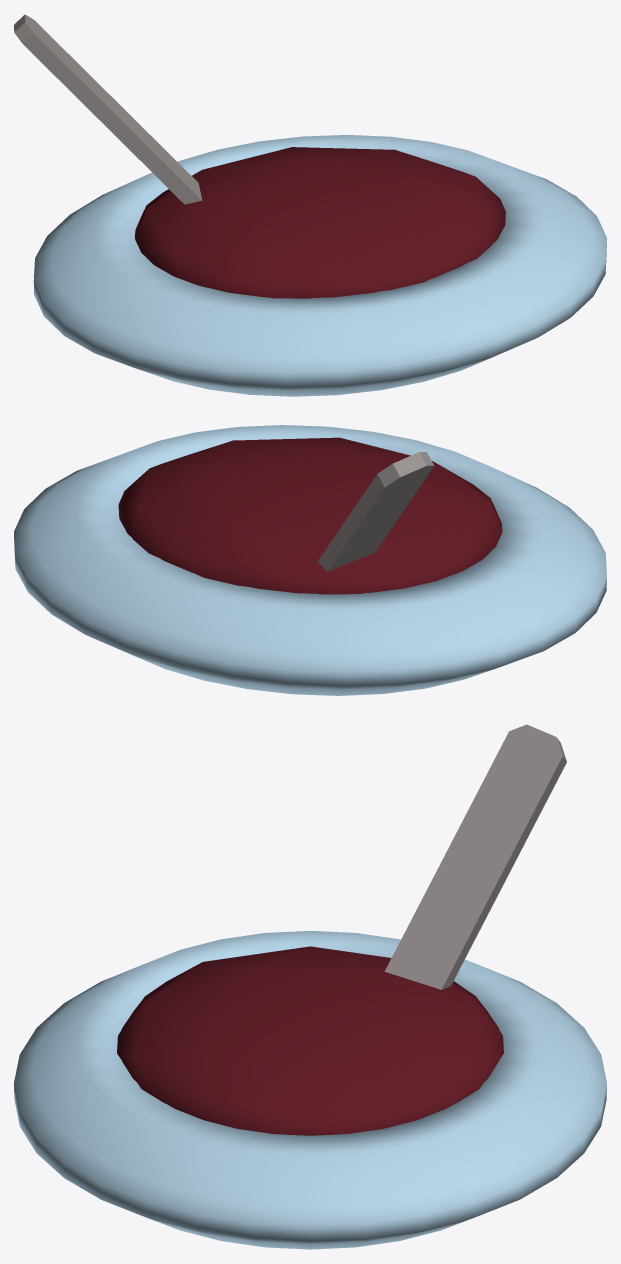
File: cranberry.fbx
3 renders of one model, top to bottom at view 1: azimuth 30°, elevation 25°; view 2: azimuth 150°, elevation 25°; view 3: azimuth 270°, elevation 25°, orthographic. The views are drawn at different scales.
Parts seen in each view (by area): view 1: Cube; view 2: Cube; view 3: Cube.
Boxes of the visible parts, <box> form: Cube: <box>14,14,606,396</box>; Cube: <box>14,425,606,695</box>; Cube: <box>14,724,606,1249</box>.
Bounding box in the file's own units: 1886 × 928 × 1657.
